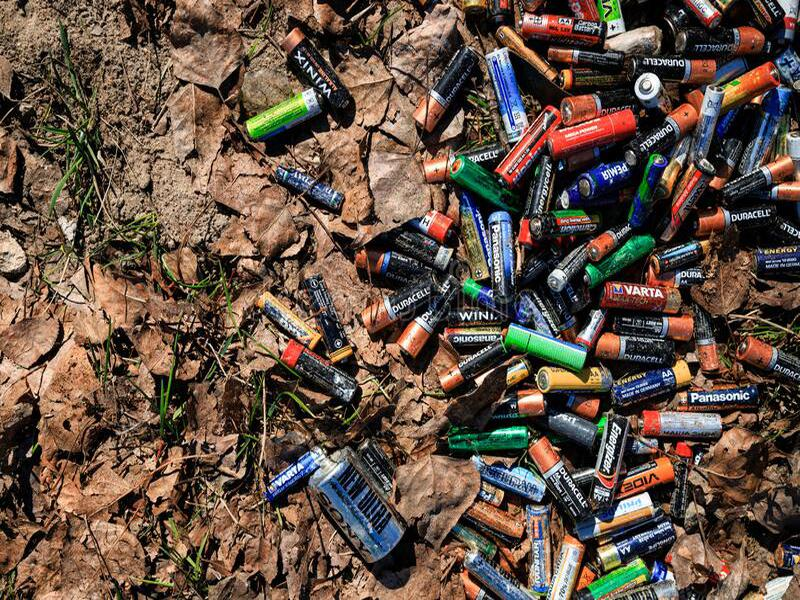battery: (305, 440, 421, 569), (402, 40, 486, 132), (272, 336, 367, 405), (274, 24, 351, 107), (518, 436, 591, 520), (583, 410, 639, 513), (479, 47, 537, 144), (589, 516, 683, 575), (233, 86, 328, 144), (476, 208, 527, 315), (496, 323, 595, 371), (713, 152, 798, 206), (547, 108, 638, 158), (689, 198, 785, 241), (592, 277, 694, 316), (637, 405, 730, 445), (624, 50, 722, 84), (674, 379, 767, 414)
